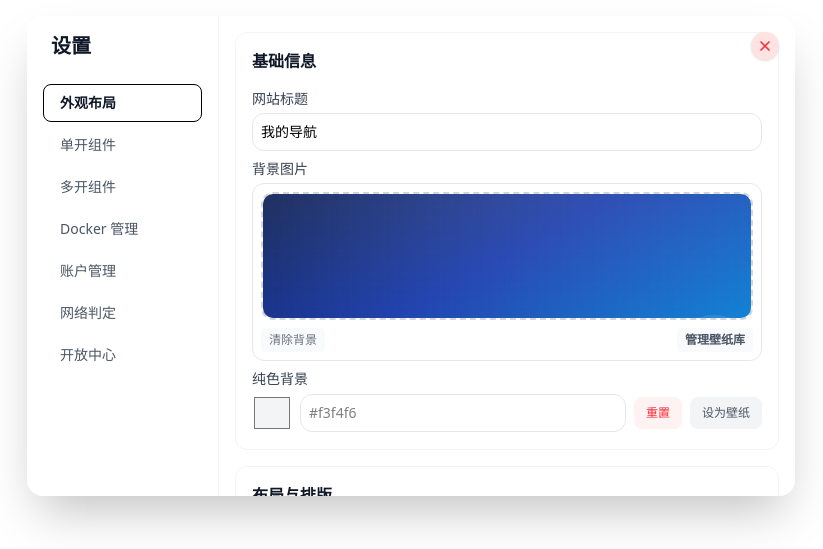
SettingsModal Custom JS Logic › shows disclaimer by default and hides textarea
This screenshot has width=823, height=549.
Click the button "开放中心" at (122, 355), box top-left (43, 336), bottom-right (202, 374)
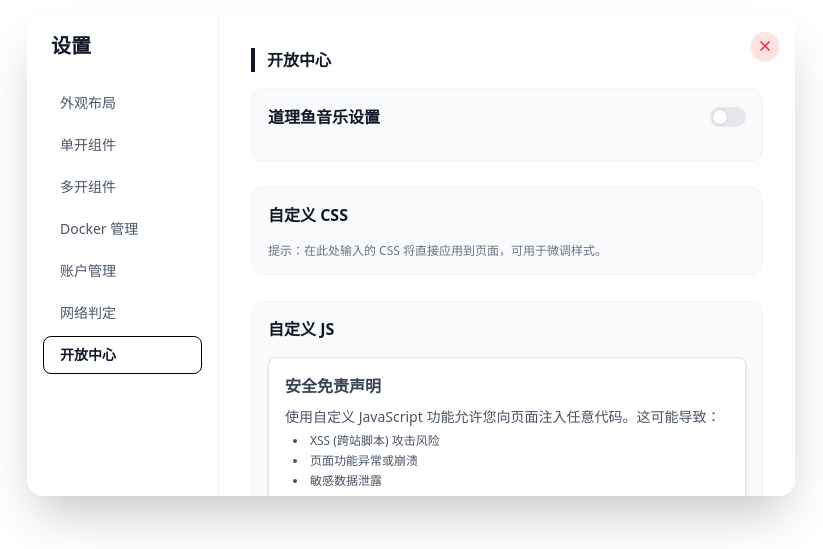
Result: the text "安全免责声明" is shown at top-left (285, 375), bottom-right (381, 397)
Result: the text "XSS (跨站脚本) 攻击风险" is shown at top-left (310, 432), bottom-right (440, 449)
